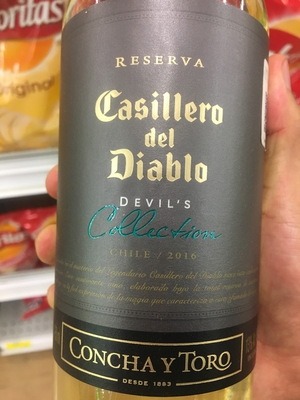casillero del diablo devils collection verde: (57, 11, 274, 400)
